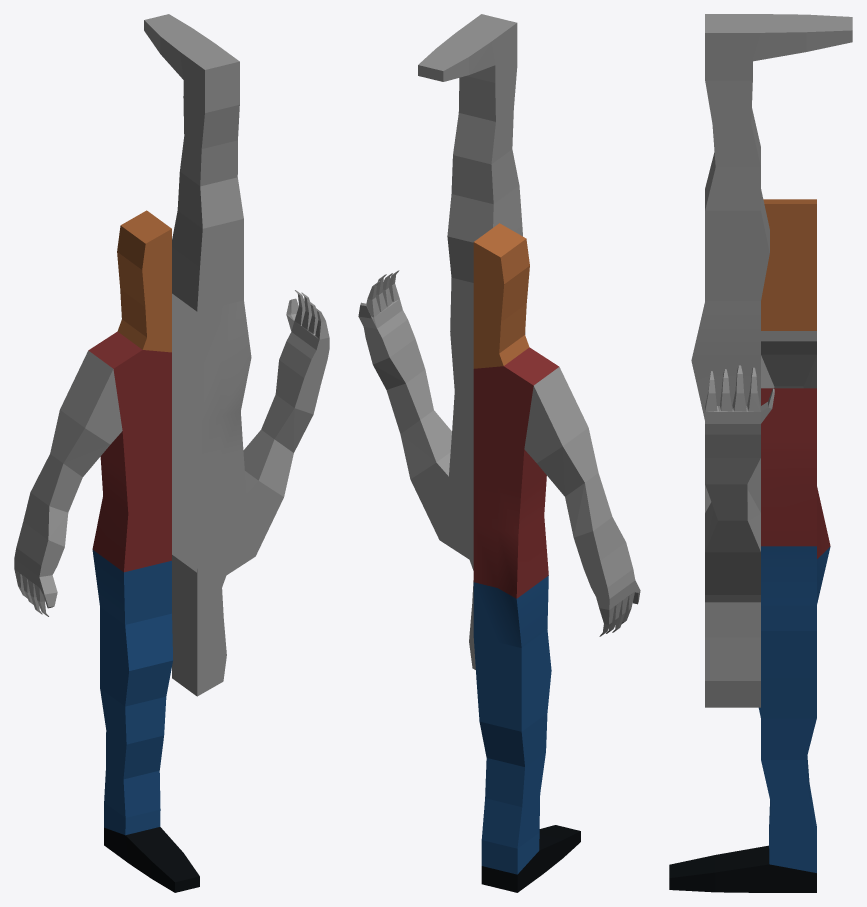
The model's file is Char.FBX.
The picture shows the model from 3 angles, left to right: view 1: azimuth 30°, elevation 25°; view 2: azimuth 150°, elevation 25°; view 3: azimuth 270°, elevation 25°; orthographic projection. The views are drawn at different scales.
Parts seen in each view (by area): view 1: R, L; view 2: R, L; view 3: L, R.
Part boxes in pixels (bbox=[...]): R: bbox=[14, 210, 199, 892]; L: bbox=[144, 14, 329, 696]; R: bbox=[473, 223, 640, 892]; L: bbox=[358, 14, 525, 669]; L: bbox=[691, 14, 852, 707]; R: bbox=[669, 199, 830, 892].
Size of the model in its own units: 74.33 by 214 by 40.1.
